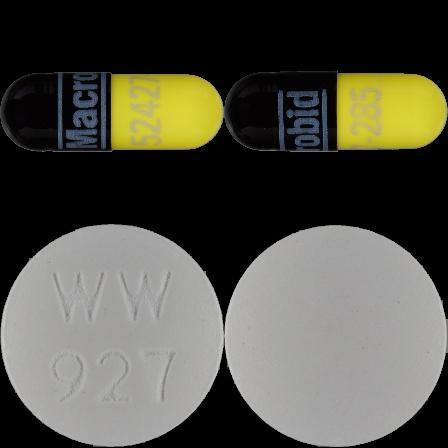50090-0865: (0, 0, 224, 224)
